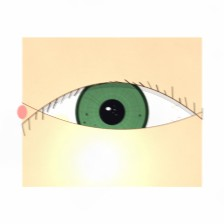pinguecula_lesion: (41, 105, 79, 135)
